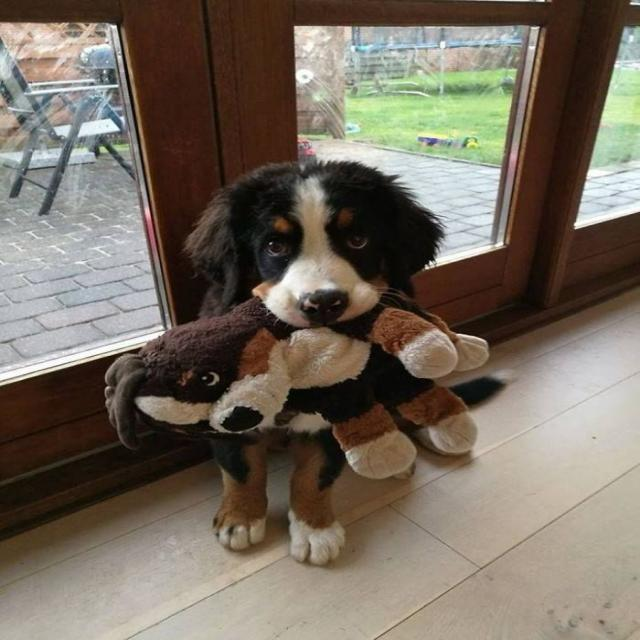Dogs: (185, 156, 519, 566)
